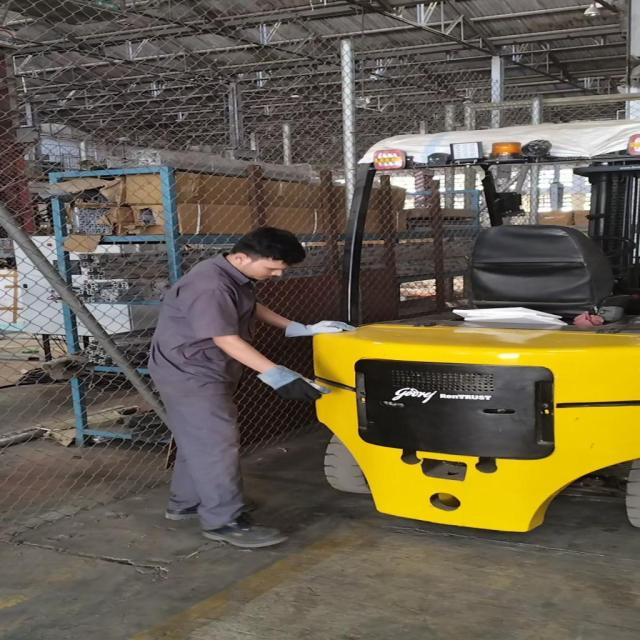Gloves-Detection: (264, 366, 318, 408), (280, 316, 356, 336)
